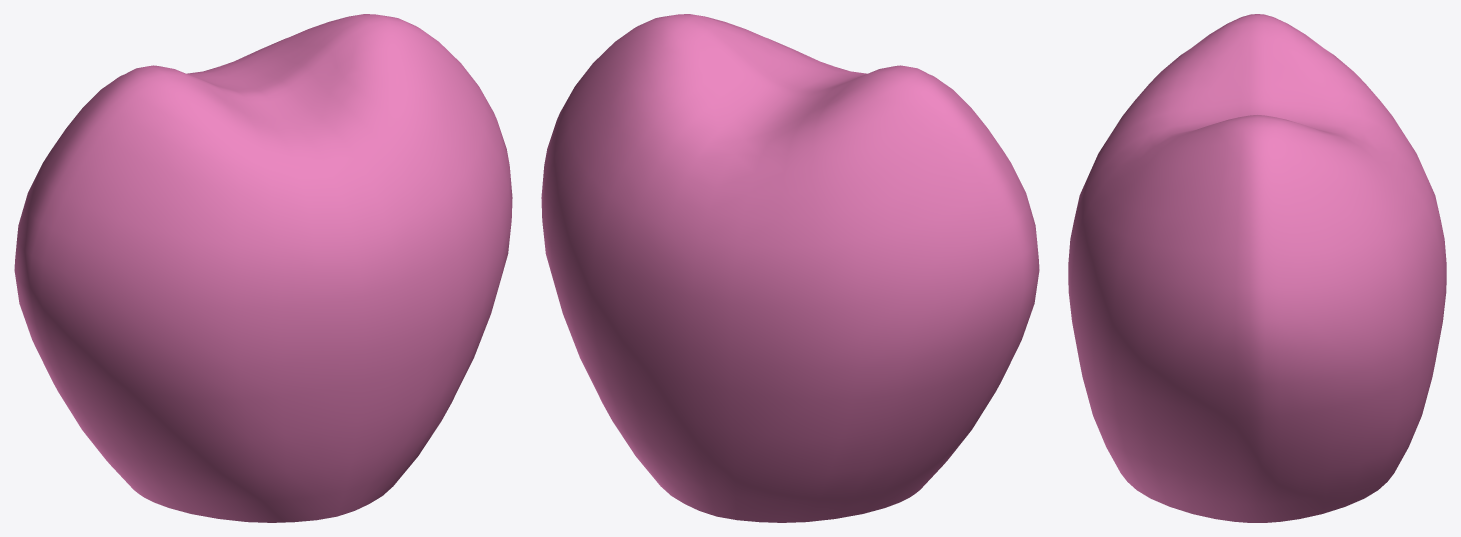
The model's file is GIRLSGENERATION_01.glb.
3 renders of one model, left to right at view 1: azimuth 30°, elevation 25°; view 2: azimuth 150°, elevation 25°; view 3: azimuth 270°, elevation 25°, orthographic. The views are drawn at different scales.
Size of the model in its own units: 0.2206 by 0.1843 by 0.1603.
